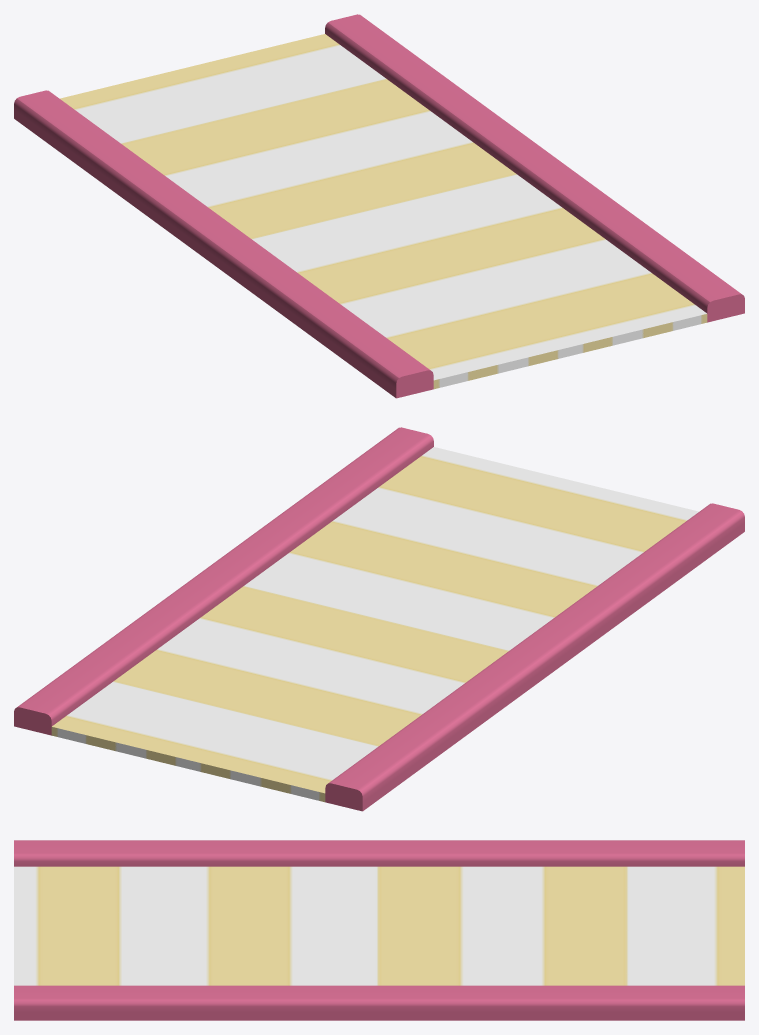
The picture shows the model from 3 angles, top to bottom: view 1: azimuth 30°, elevation 25°; view 2: azimuth 150°, elevation 25°; view 3: azimuth 270°, elevation 25°; orthographic projection. The views are drawn at different scales.
Visible parts, largest first — view 1: load; view 2: load; view 3: load.
Part boxes in pixels (box(x1,y1,x2,y2)): load: box(14, 14, 744, 398); load: box(14, 427, 744, 811); load: box(14, 840, 744, 1020).
Bounding box in the file's own units: 543 × 30.48 × 1032.
